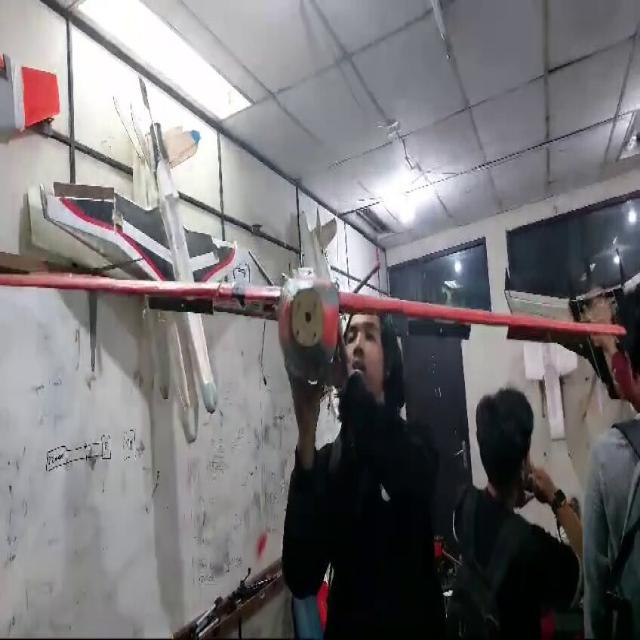plane: (0, 76, 630, 439)
